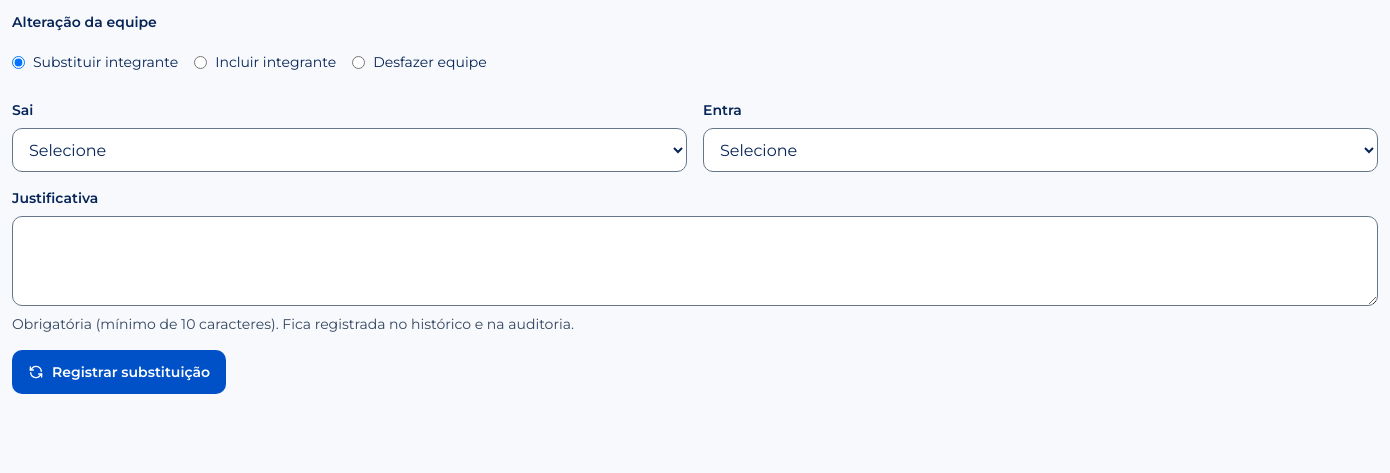
Test: AcoesDupla (US4) › dupla em turma que permite trio: inclui aluno sem equipe com justificativa
This screenshot has width=1390, height=473.
Click the radio button labelled "Incluir integrante": (201, 62) [194,56,207,68]
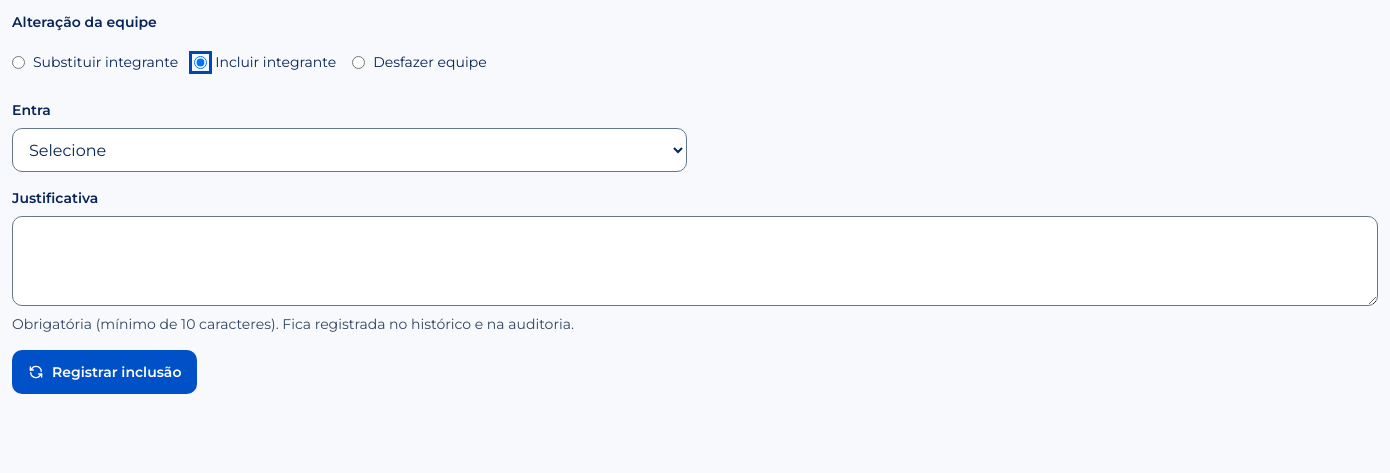
Select "Xavier Exemplo" in the dropdown labelled "Entra": (350, 150) [12,128,687,172]
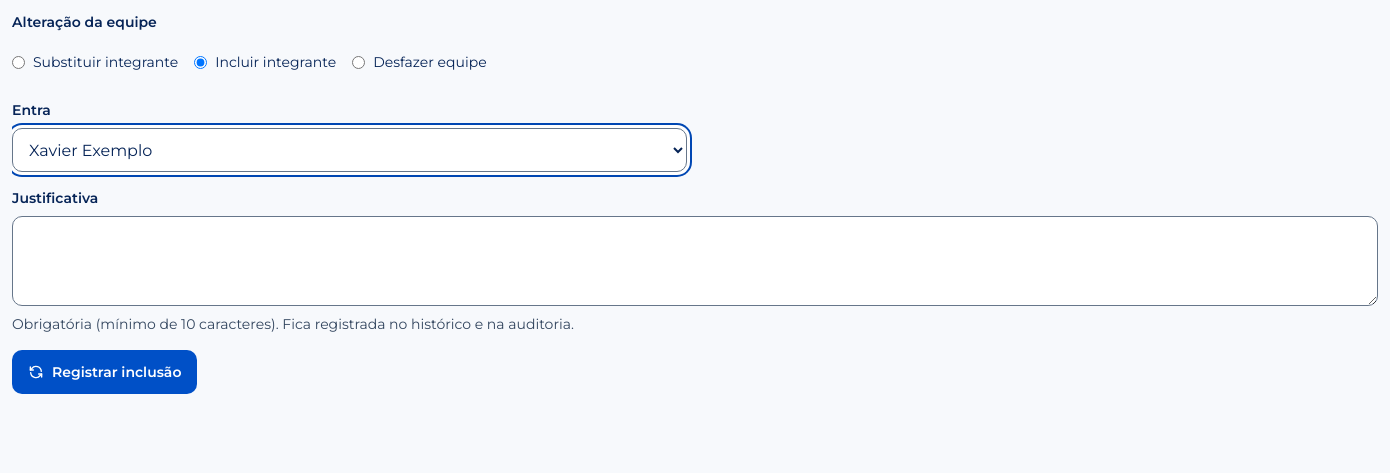
In the text box labelled "Justificativa": (695, 261) [12,216,1378,306], type "Aluno que ficou sem equipe"
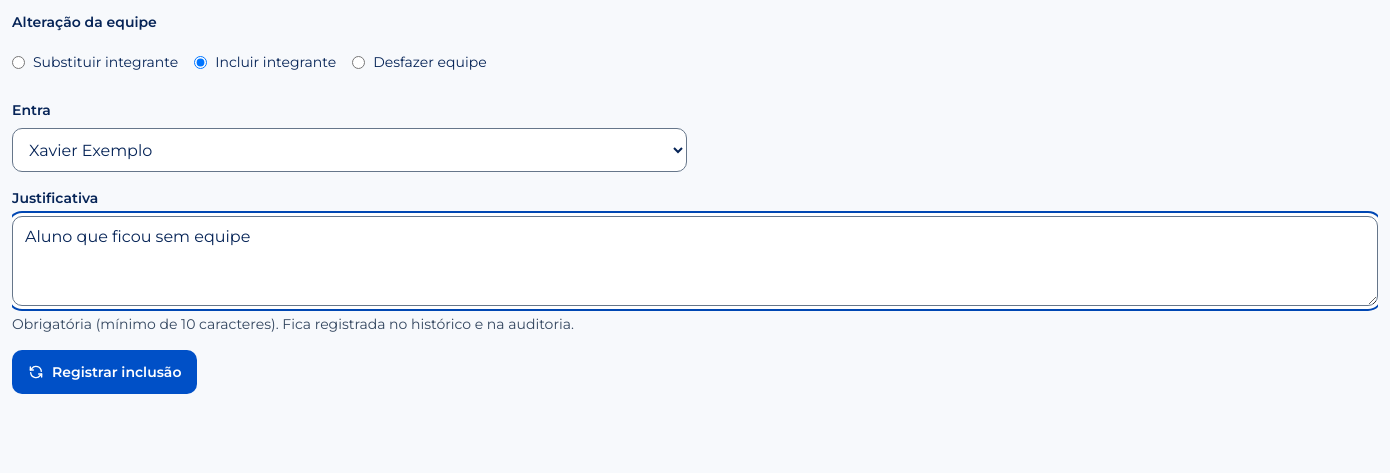
Click the button "Registrar inclusão": (105, 372) [12,350,197,394]
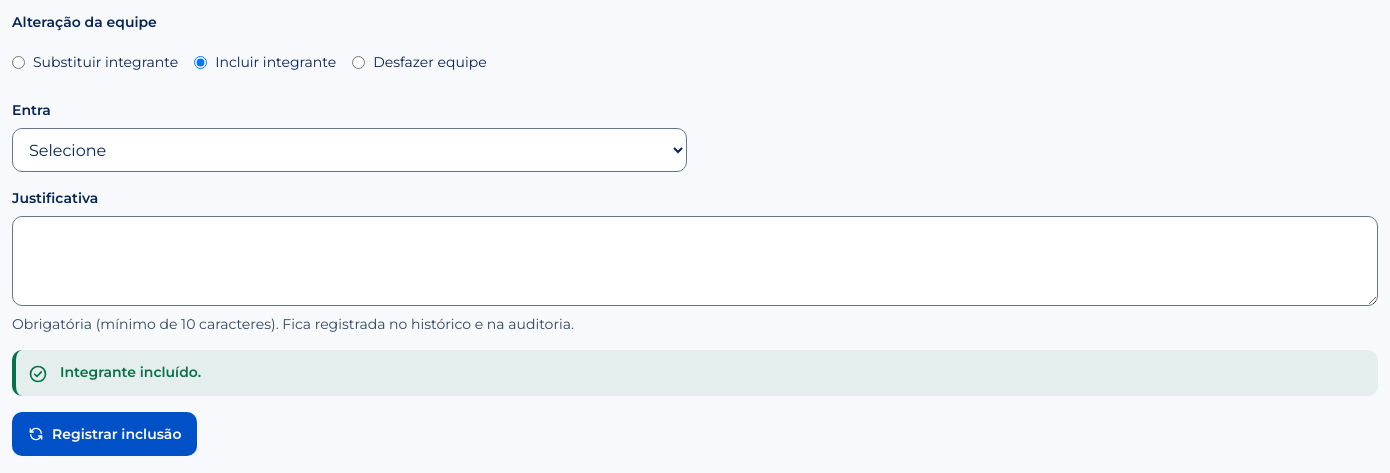
Check: the message reads "Integrante incluído.", box [60,363,201,381]
